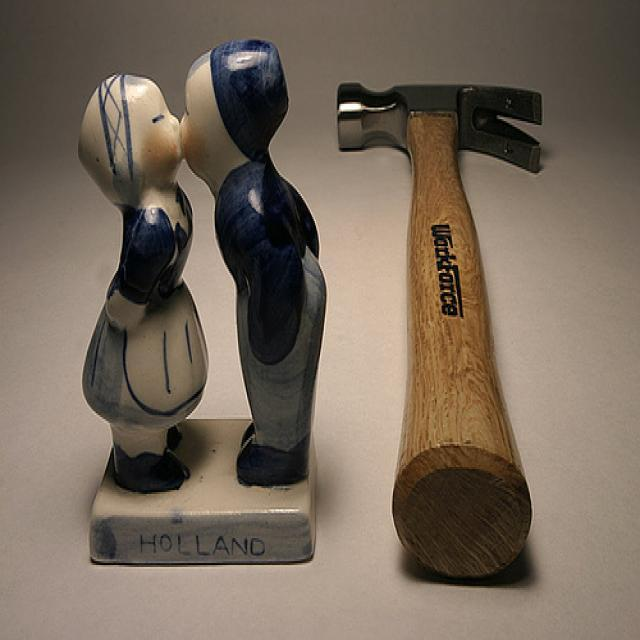hammer: (327, 60, 570, 596)
